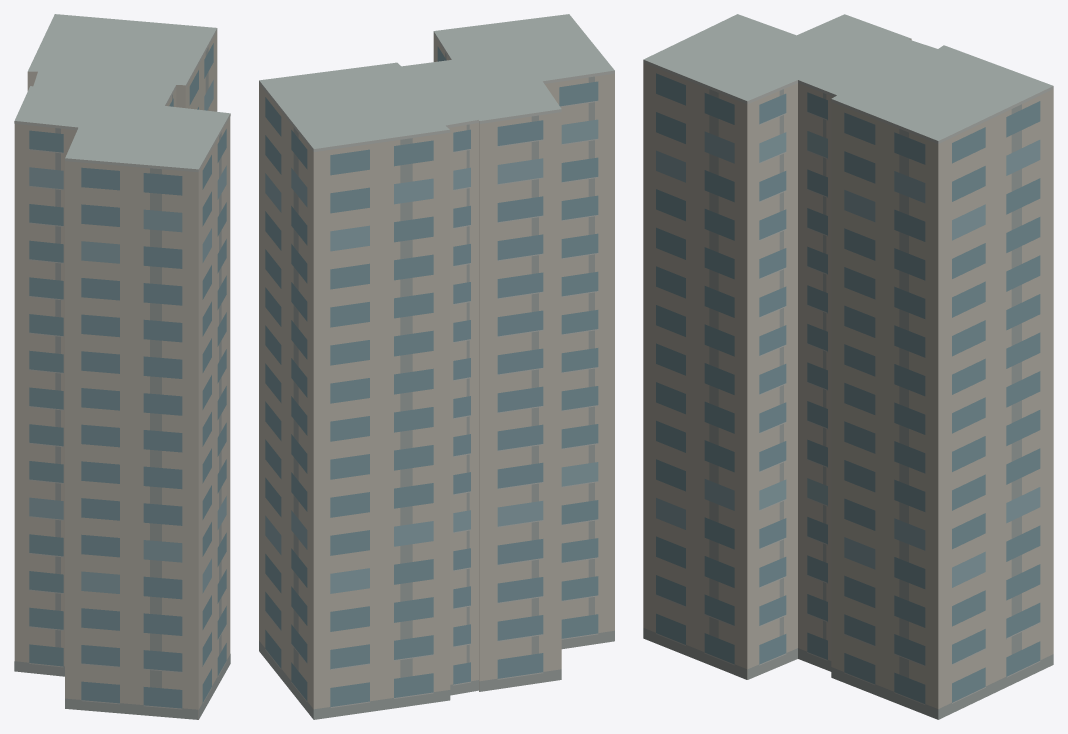
The model's file is survey-upis-32622568.glb.
3 renders of one model, left to right at view 1: azimuth 30°, elevation 25°; view 2: azimuth 150°, elevation 25°; view 3: azimuth 270°, elevation 25°, orthographic. The views are drawn at different scales.
Visible parts, largest first — view 1: survey-upis-32622568.tmp; view 2: survey-upis-32622568.tmp; view 3: survey-upis-32622568.tmp.
Part boxes in pixels (x1,y1,x2,y2): survey-upis-32622568.tmp: (14, 14, 230, 719); survey-upis-32622568.tmp: (259, 14, 614, 719); survey-upis-32622568.tmp: (643, 14, 1053, 719).
Bounding box in the file's own units: 21.55 × 45.75 × 29.4.
